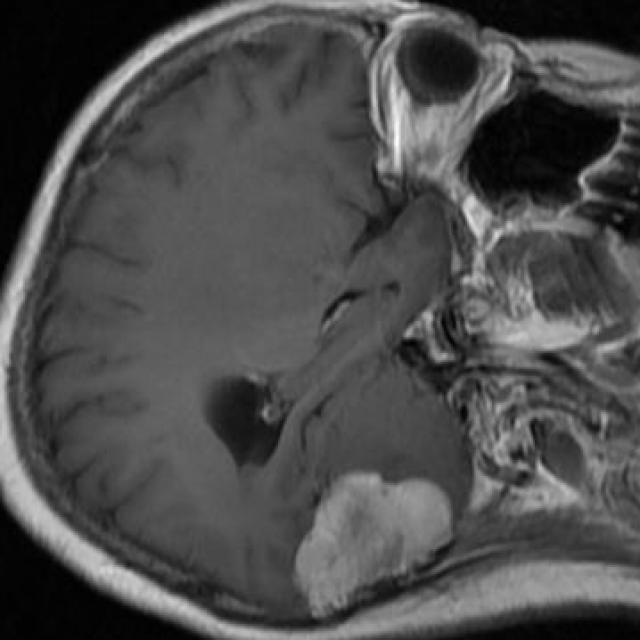meningioma: (292, 474, 455, 619)
